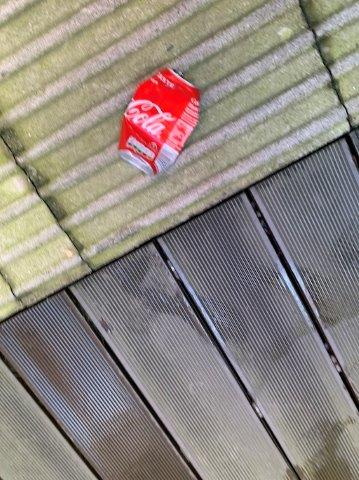kaleng: (119, 69, 199, 174)
